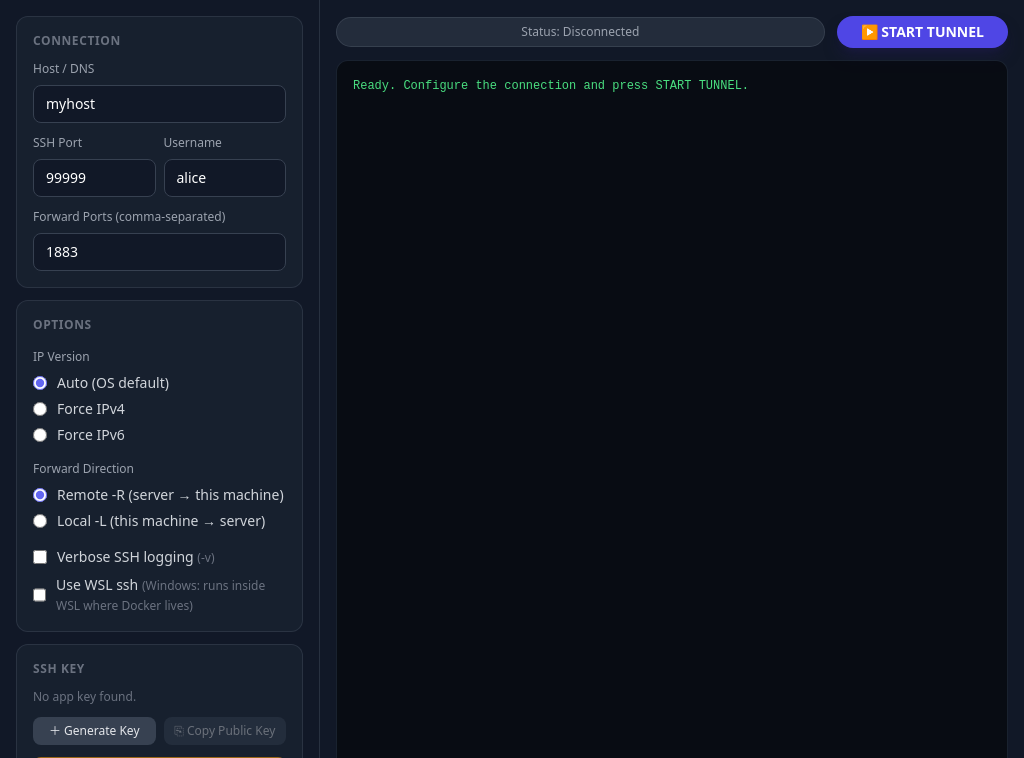
Scenario: SshTab toggleTunnel validation › blocks start when SSH port is out of range
The width and height of the screenshot is (1024, 758).
Click the button "▶ START TUNNEL".
click(922, 32)  # box [837,16,1008,48]
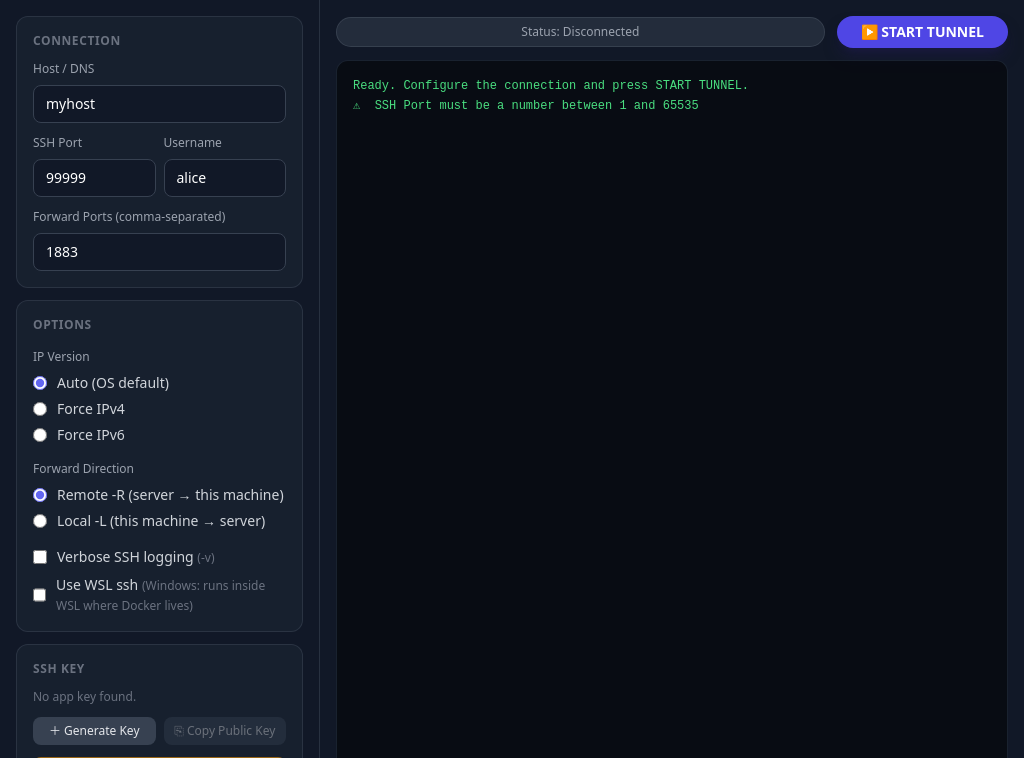
Result: the text "65535" is shown at [353,79,749,112]
